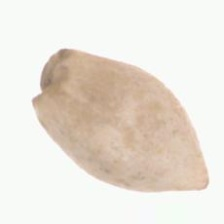L1: (30, 47, 68, 108), (192, 164, 210, 192)
L2: (31, 47, 210, 193)
